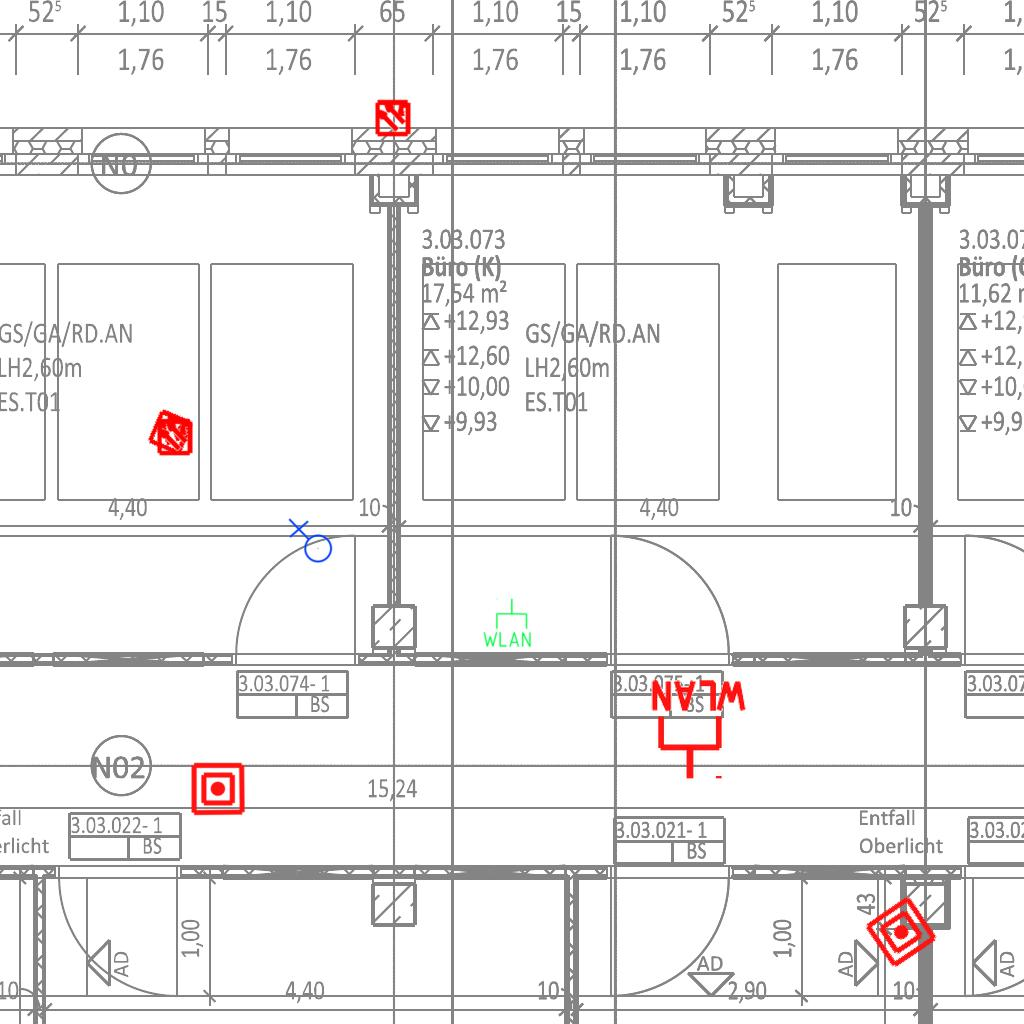Elektroanschluss_allgemein_230V_Geraeteanschlussdose_230V: (286, 518, 333, 567)
NAM-Nichtautomatischer_Melder: (862, 893, 940, 971), (190, 761, 246, 817)
OT_Multisensormelder_(Kombination_RMO_WMD): (134, 394, 208, 468), (365, 89, 421, 145), (147, 408, 203, 464)
WLAN: (647, 678, 751, 783), (481, 597, 533, 649)
